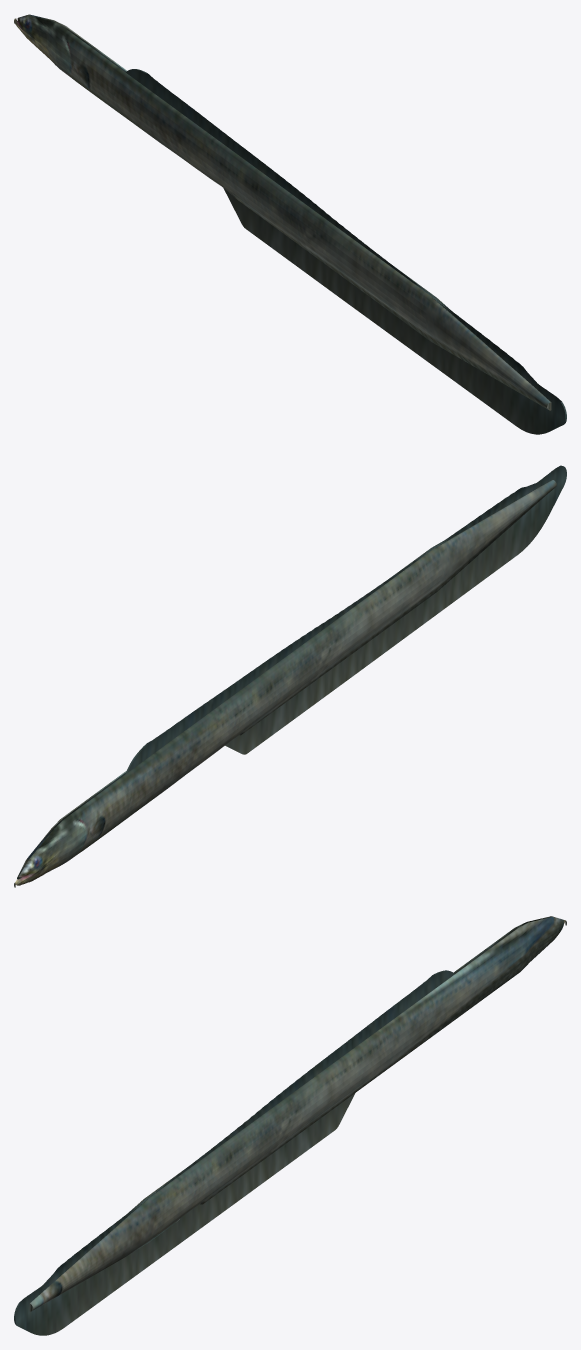
Rendered from eel.fbx.
3 views of the same model, one above another, from view 1: azimuth 30°, elevation 25°; view 2: azimuth 150°, elevation 25°; view 3: azimuth 330°, elevation 25° (orthographic).
Visible parts, largest first — view 1: Line001, Line003; view 2: Line001, Line003; view 3: Line001, Line003.
Part boxes in pixels (x1,y1,x2,y2): Line001: (14,14,551,410); Line003: (126,69,566,434); Line001: (14,480,556,887); Line003: (125,465,566,773); Line001: (29,916,566,1311); Line003: (14,970,454,1335).
Size of the model in its own units: 54.08 by 266 by 3199.
Materials: 1 (1 with a texture image).
